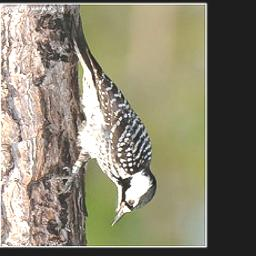Woodpecker: (50, 11, 158, 227)
